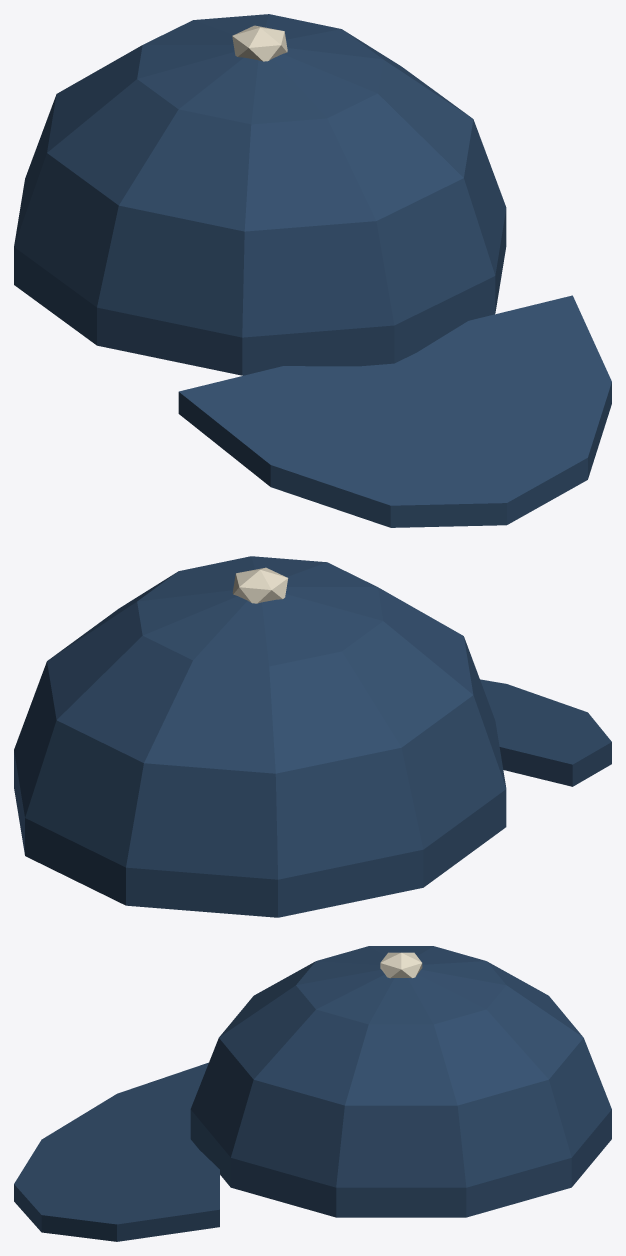
The model's file is cap.glb.
The picture shows the model from 3 angles, top to bottom: view 1: azimuth 30°, elevation 25°; view 2: azimuth 150°, elevation 25°; view 3: azimuth 270°, elevation 25°; orthographic projection. The views are drawn at different scales.
Visible parts, largest first — view 1: cap; view 2: cap; view 3: cap.
Boxes of the visible parts, x1,y1,x2,y2 form: cap: (14, 14, 611, 527); cap: (14, 556, 611, 917); cap: (14, 946, 611, 1241).
Bounding box in the file's own units: 0.2701 × 0.1998 × 0.4352.
1 material, 1 textured.
